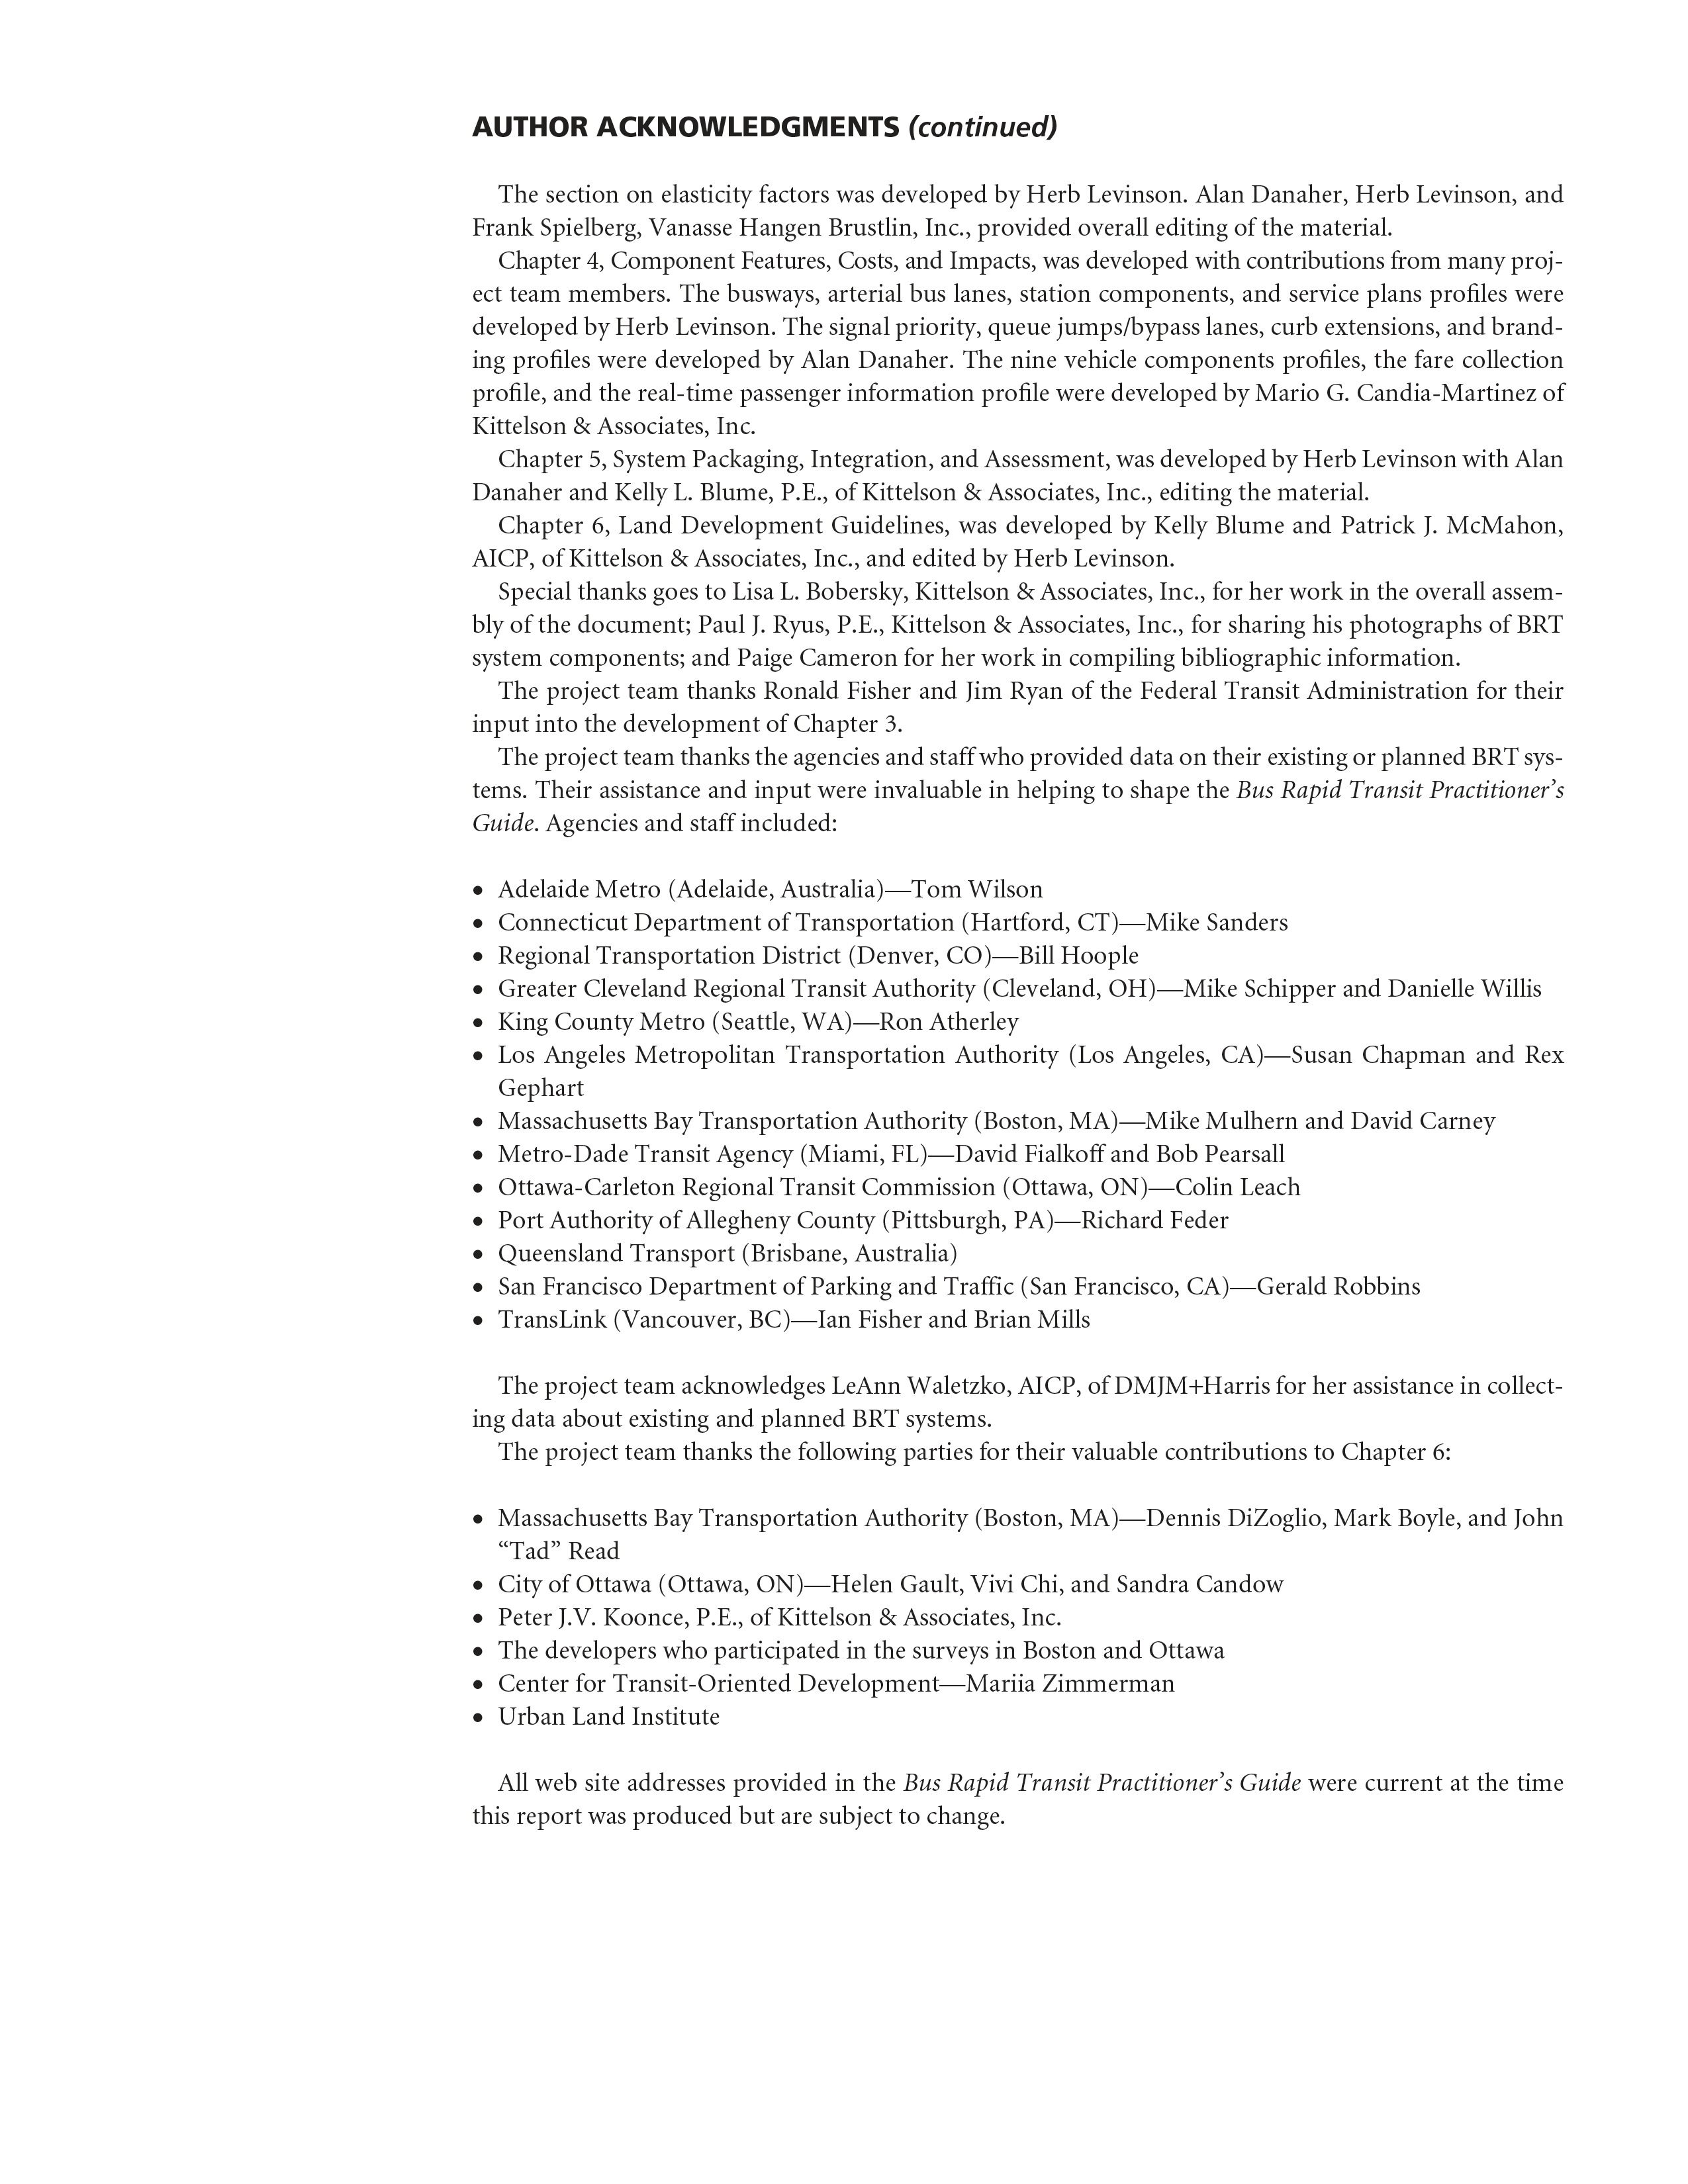list: (456, 860, 1566, 1351), (449, 1500, 1573, 1741)
section: (463, 106, 1064, 145)
text: (452, 168, 1596, 842), (463, 1369, 1566, 1471), (466, 1764, 1566, 1844)
